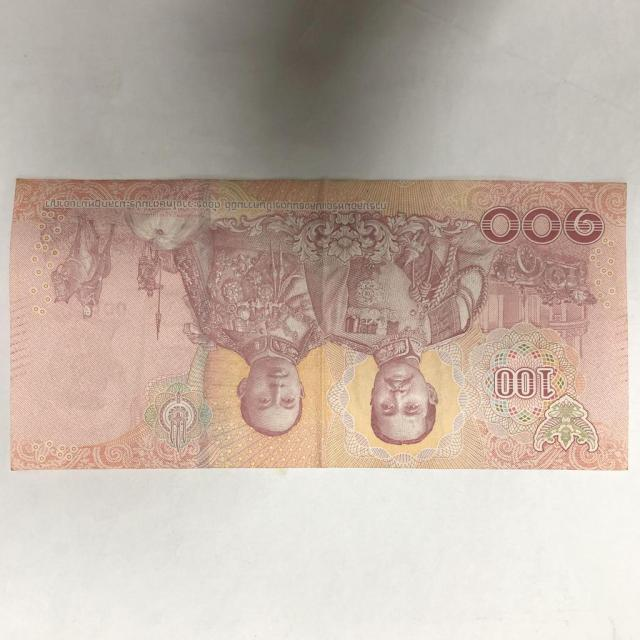THAI100: (10, 179, 628, 470)
